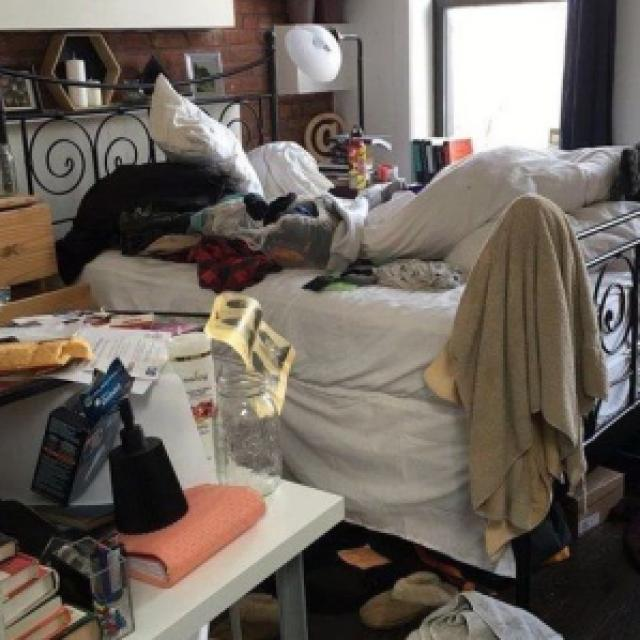mess: (63, 134, 640, 326), (5, 336, 320, 640), (333, 500, 622, 640)
